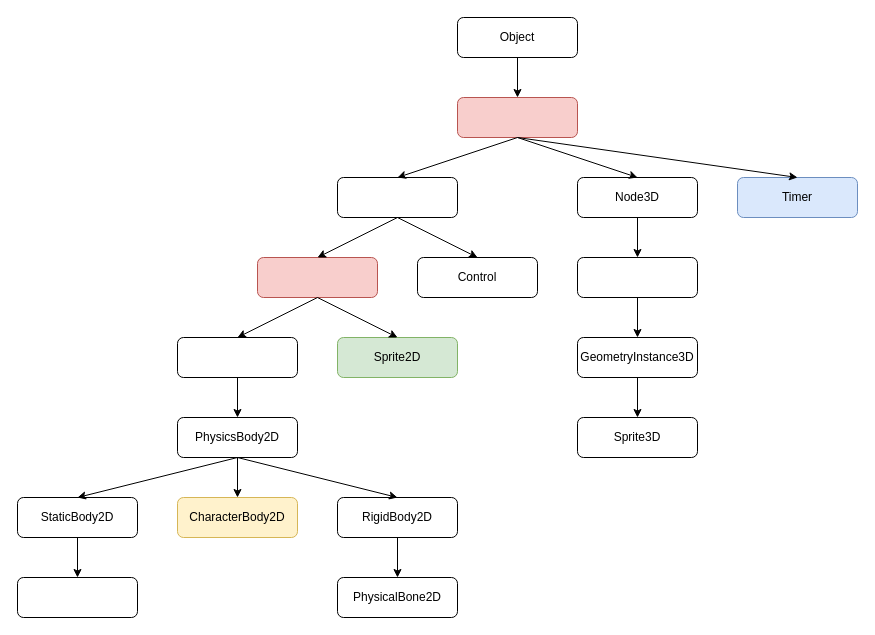
Some shapes in this 875 by 635 pixel diagram are drawn without their labels. The centre of each missing label's shape, as x and y in pixels:
"AnimatableBody2D" belongs at point 77,597.
"CanvasItem" belongs at point 397,197.
"CollisionObject2D" belongs at point 237,357.
"Node" belongs at point 517,117.
"Node2D" belongs at point 317,277.
"VisualInstance3D" belongs at point 637,277.
